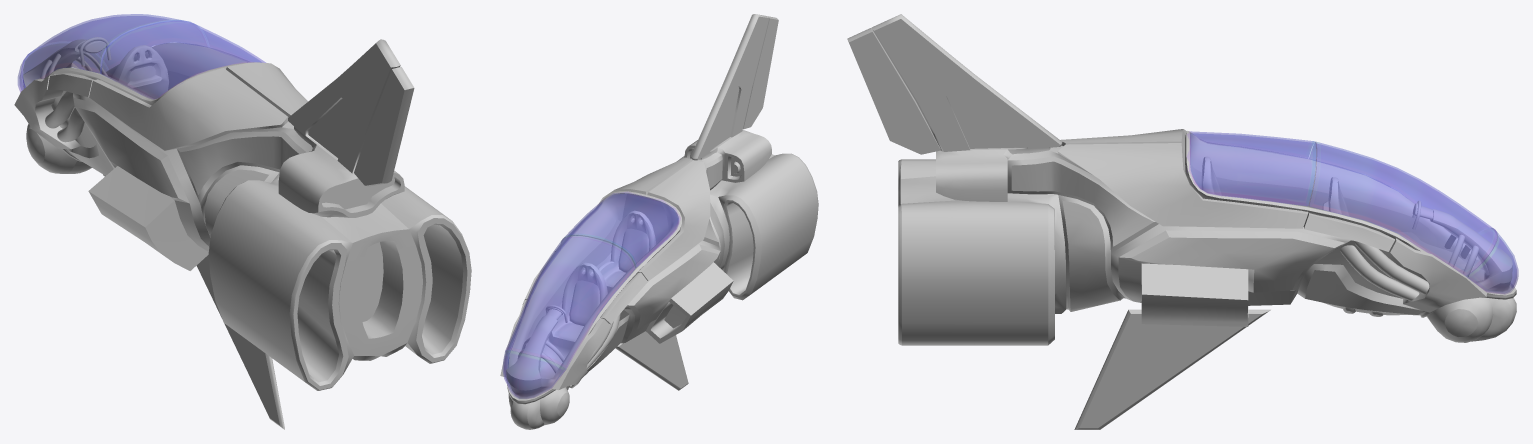
Rendered from E 45 Aircraft_obj.obj.
The picture shows the model from 3 angles, left to right: view 1: azimuth 30°, elevation 25°; view 2: azimuth 150°, elevation 25°; view 3: azimuth 270°, elevation 25°; orthographic projection. The views are drawn at different scales.
Visible parts, largest first — view 1: Cube.021_Cube.048, Cube.004_Cube.001; view 2: Cube.021_Cube.048, Cube.004_Cube.001; view 3: Cube.021_Cube.048, Cube.004_Cube.001.
Boxes of the visible parts, x1,y1,x2,y2 form: Cube.021_Cube.048: (14,37,471,429); Cube.004_Cube.001: (17,14,265,99); Cube.021_Cube.048: (500,14,818,429); Cube.004_Cube.001: (502,191,680,398); Cube.021_Cube.048: (847,14,1516,429); Cube.004_Cube.001: (1187,131,1518,294).
Bounding box in the file's own units: 1.95 × 4.19 × 6.14.
